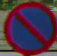No waiting: (2, 2, 53, 52)
